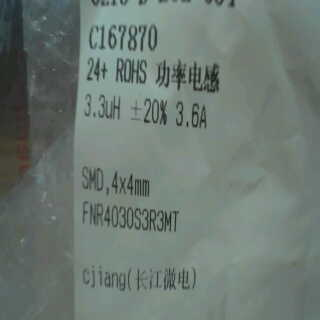3.3uH: (83, 90, 127, 128)
